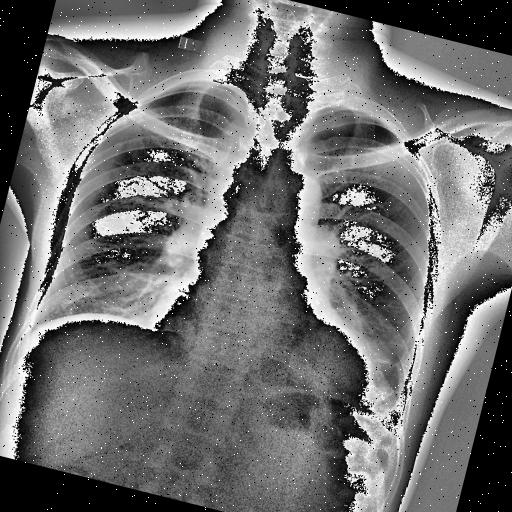0- Aortic enlargement: (256, 165, 330, 229)
3- Cardiomegaly: (146, 266, 399, 406), (145, 292, 383, 399), (142, 304, 389, 390)
8- Nodule-Mass: (283, 316, 386, 402)
